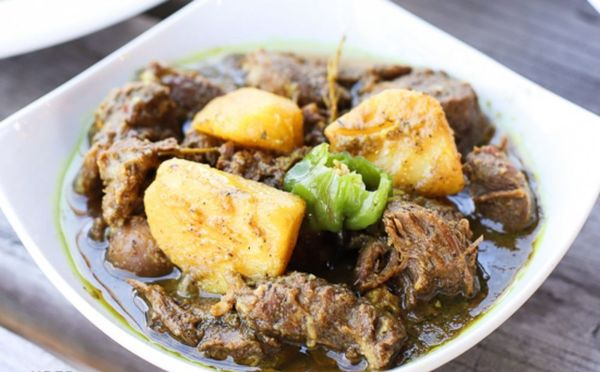sushi: (17, 1, 599, 369)
